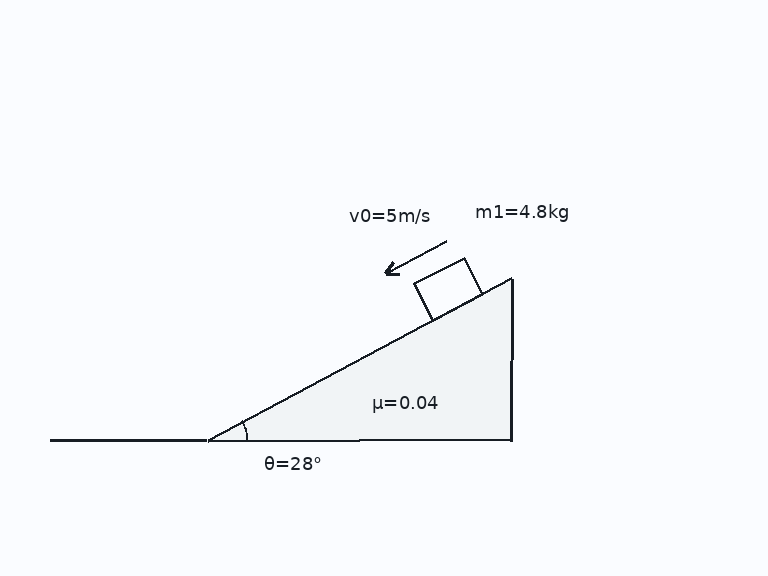block: (412, 256, 484, 322)
ramp: (205, 277, 513, 442)
